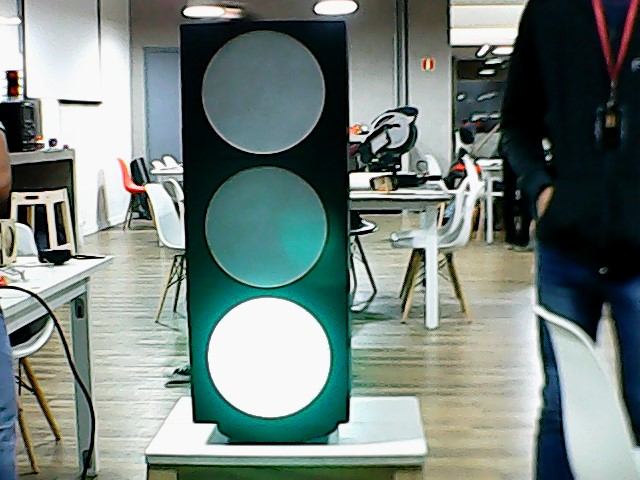verde: (174, 16, 356, 423)
